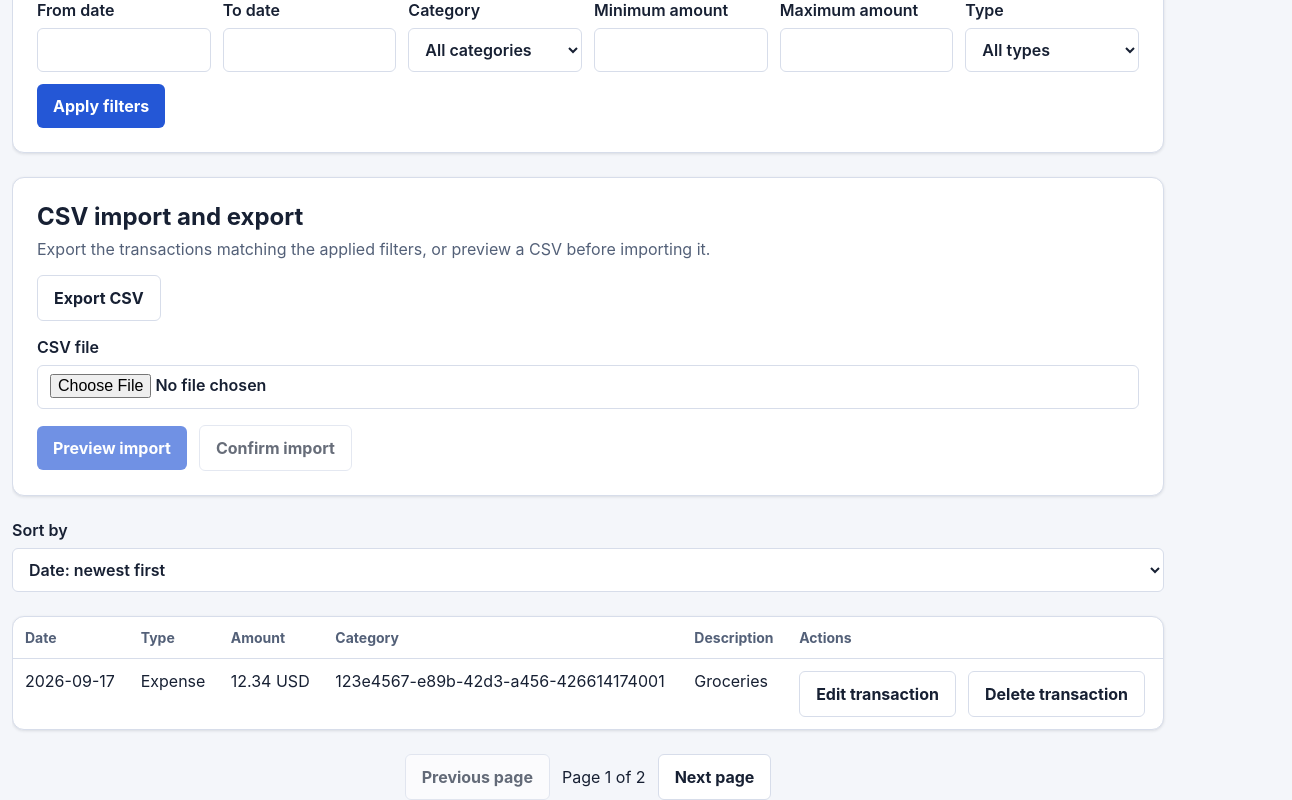
Test: loads the next transaction page
(page scrolled)
Click the button "Next page" at {"x": 714, "y": 777}, box [658,754,771,799]
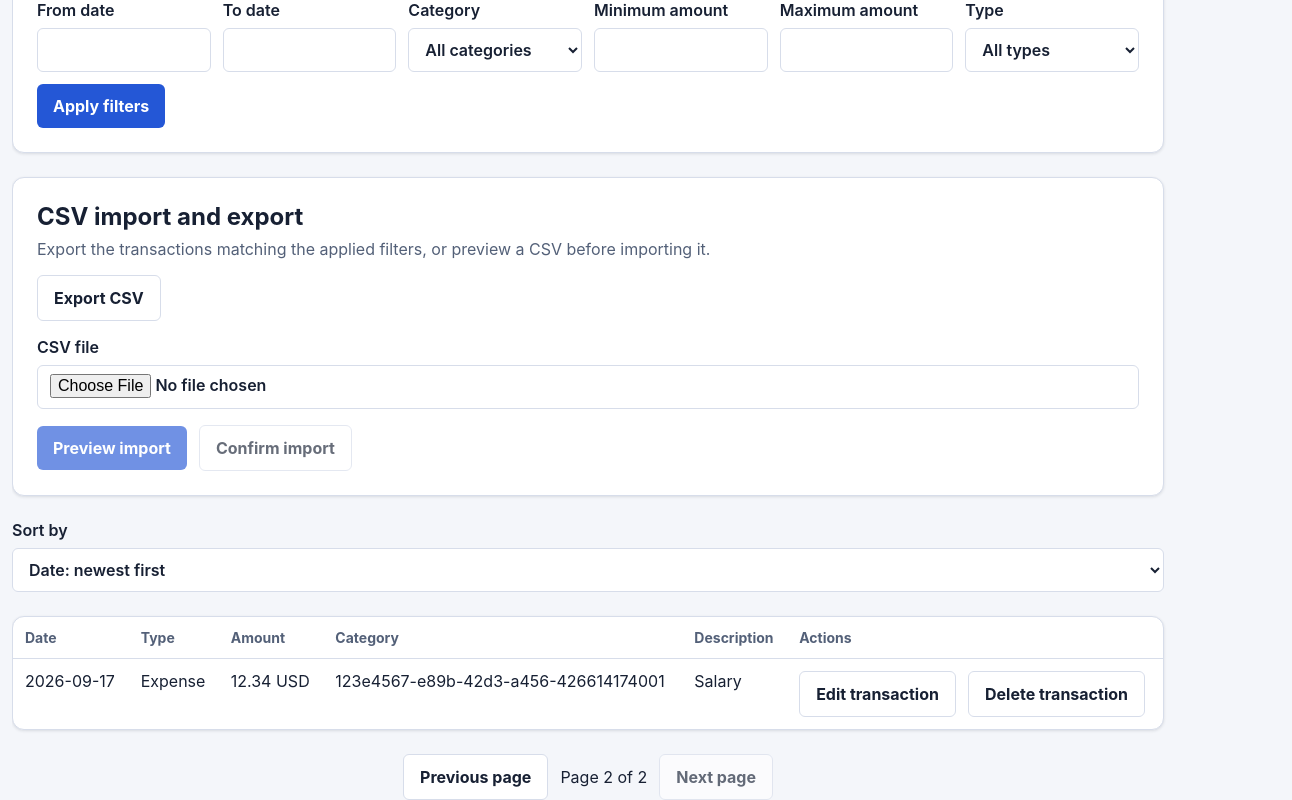
Now the text "Salary" is shown, box [682,658,787,729]
